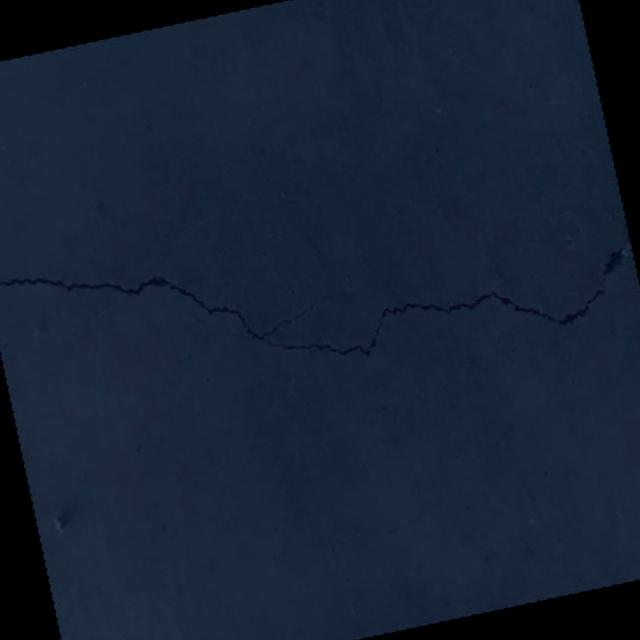crack: (0, 140, 640, 478), (561, 362, 619, 523), (627, 522, 640, 579)
